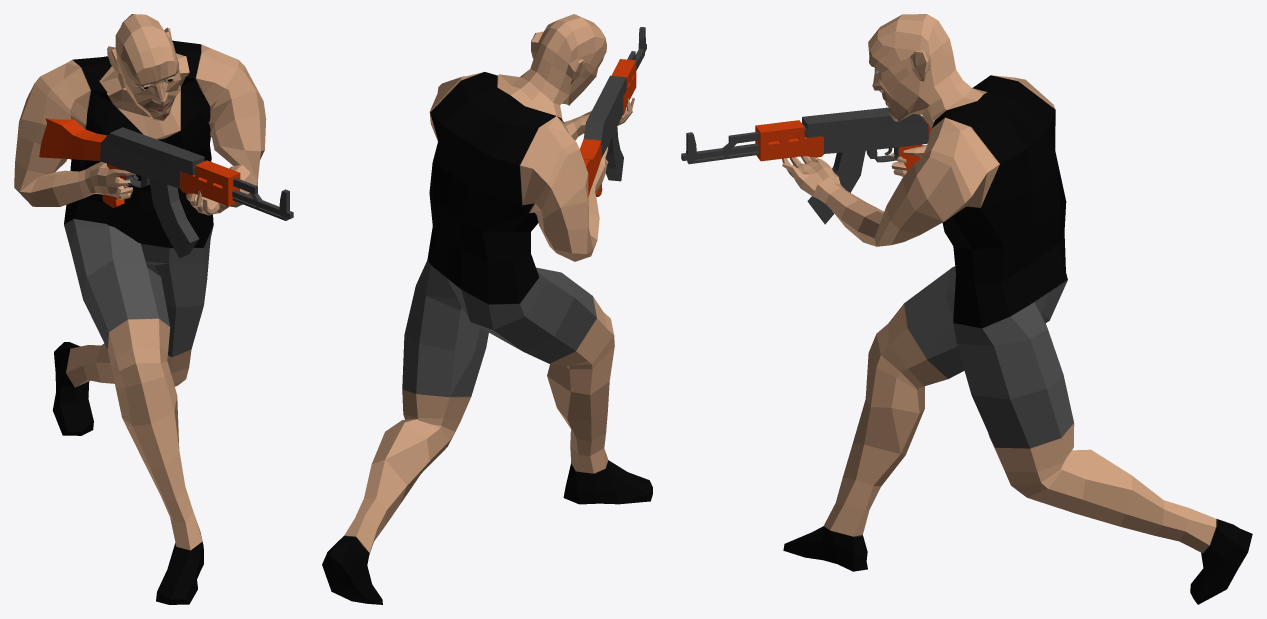
Rendered from PlayerWalk(24).obj.
3 renders of one model, left to right at view 1: azimuth 30°, elevation 25°; view 2: azimuth 150°, elevation 25°; view 3: azimuth 270°, elevation 25°, orthographic. The views are drawn at different scales.
Visible parts, largest first — view 1: Plane002, Object001; view 2: Plane002, Object001; view 3: Plane002, Object001.
Part boxes in pixels (x1,y1,x2,y2): Plane002: (14, 14, 266, 604); Object001: (39, 118, 293, 258); Plane002: (322, 14, 652, 604); Object001: (580, 27, 646, 196); Plane002: (782, 14, 1252, 604); Object001: (681, 107, 931, 224).
Size of the model in its own units: 598 by 1527 by 1445.
